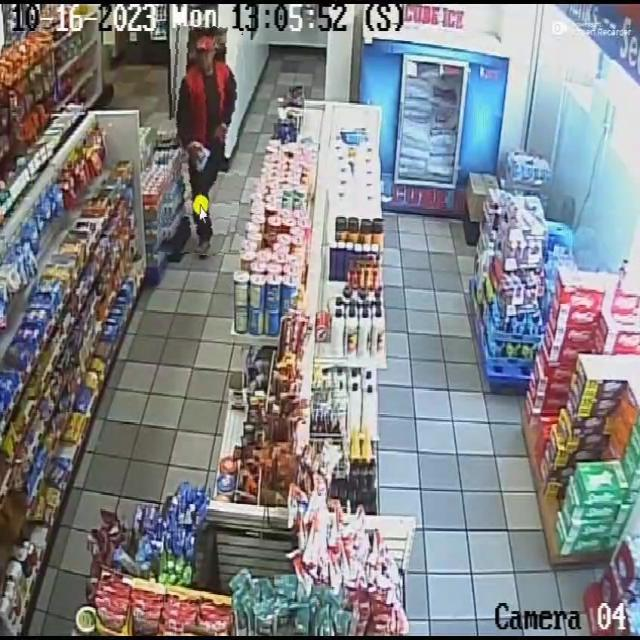Normal: (162, 26, 239, 255)
